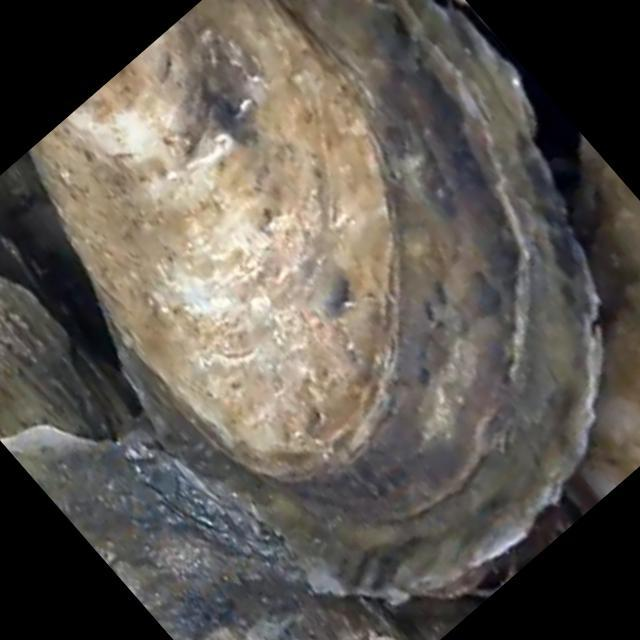Oyster- Indeterminate: (31, 0, 602, 597), (0, 422, 413, 640), (0, 232, 153, 441), (567, 130, 640, 513)
